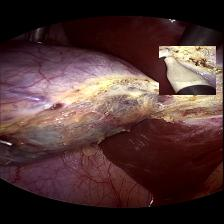Hook: (159, 45, 216, 94)
